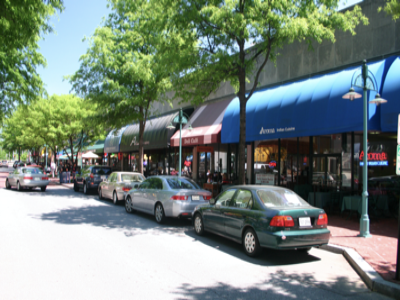licence: (297, 217, 316, 230)
